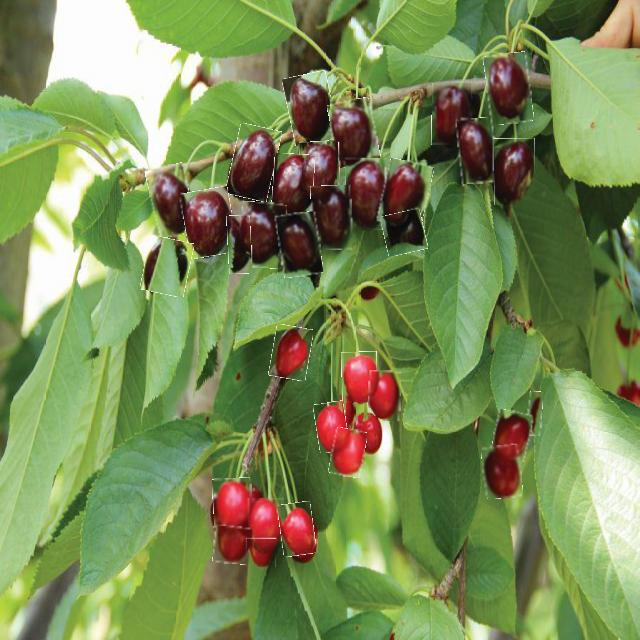cherry: (229, 125, 279, 200), (183, 188, 236, 258), (286, 72, 336, 145), (381, 160, 431, 228), (149, 164, 195, 237), (486, 53, 532, 124), (330, 99, 378, 167), (239, 202, 285, 268), (142, 237, 192, 296), (346, 158, 386, 230), (278, 212, 321, 277), (494, 138, 535, 205), (272, 154, 314, 218), (311, 186, 352, 250), (457, 118, 496, 184), (432, 84, 471, 146), (300, 142, 339, 200), (270, 326, 311, 380), (482, 445, 522, 498), (214, 478, 252, 533), (382, 210, 427, 255), (493, 410, 531, 462), (248, 498, 284, 552), (278, 502, 314, 556), (342, 352, 377, 403), (315, 401, 349, 452), (368, 370, 401, 421), (330, 429, 365, 477), (213, 526, 252, 564), (227, 216, 252, 274), (353, 408, 383, 456), (246, 538, 276, 567), (527, 392, 542, 436)
